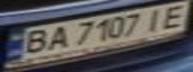0: (106, 12, 130, 39)
1: (93, 16, 112, 43)
7: (121, 10, 148, 37), (72, 19, 96, 47)
A: (42, 24, 72, 52)
B: (15, 27, 54, 56)
E: (157, 2, 193, 29)
I: (139, 6, 172, 33)
